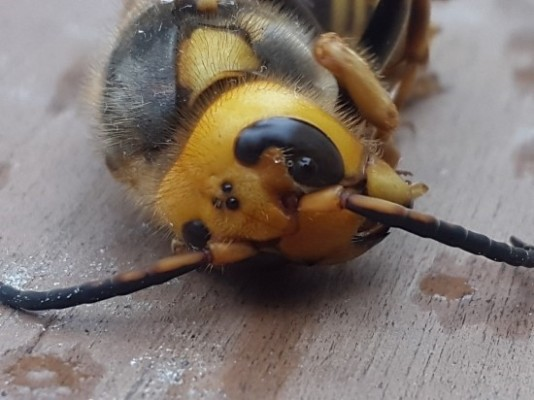asian_giant_hornet: (1, 1, 534, 312)
